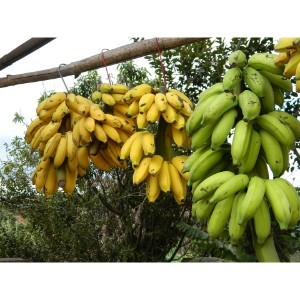banana_brain food: (186, 79, 280, 221), (17, 75, 100, 171)
